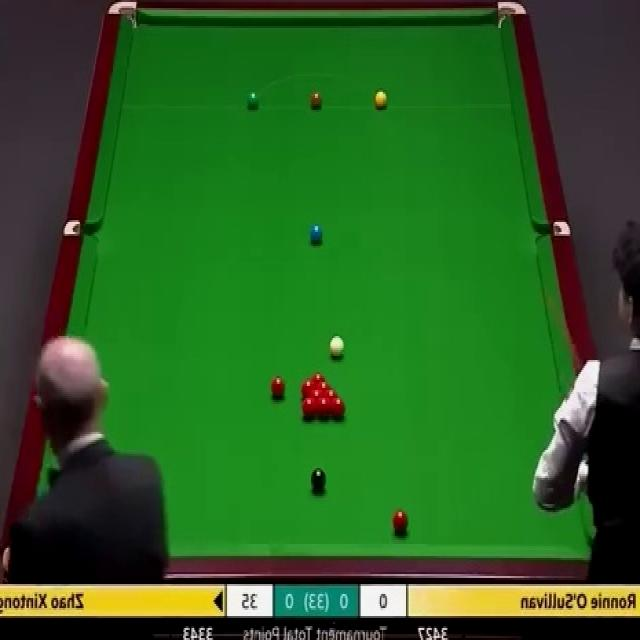black-ball: (310, 466, 328, 493)
blue-ball: (310, 224, 323, 244)
brown-ball: (310, 90, 323, 109)
green-ball: (246, 90, 259, 109)
red-ball: (300, 378, 316, 401), (392, 510, 408, 532), (271, 376, 285, 400), (315, 398, 330, 420), (330, 398, 345, 419), (302, 398, 316, 420), (316, 378, 330, 395), (307, 388, 325, 399), (310, 371, 324, 384), (324, 388, 339, 400)
white-ball: (330, 336, 345, 358)
yellow-ball: (375, 90, 388, 109)
